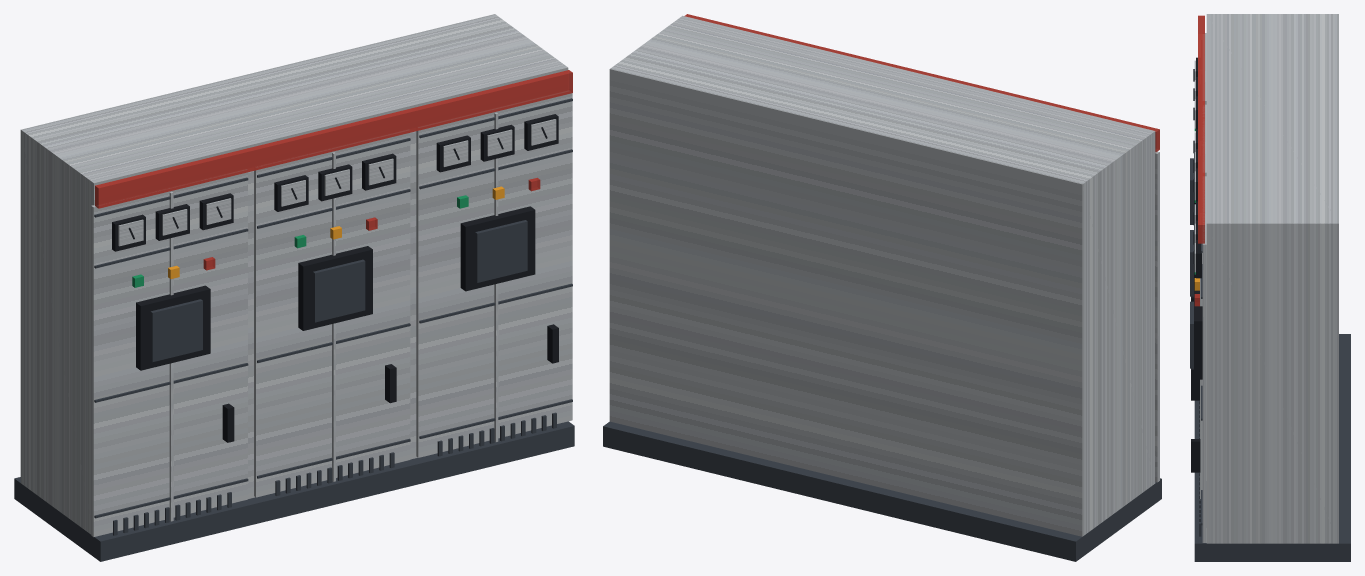
Rendered from electrical-cabinet.glb.
The picture shows the model from 3 angles, left to right: view 1: azimuth 30°, elevation 25°; view 2: azimuth 150°, elevation 25°; view 3: azimuth 270°, elevation 25°; orthographic projection. The views are drawn at different scales.
Visible parts, largest first — view 1: ElectricalCabinet; view 2: ElectricalCabinet; view 3: ElectricalCabinet.
Part boxes in pixels (x1,y1,x2,y2): ElectricalCabinet: (14, 14, 574, 561); ElectricalCabinet: (603, 14, 1161, 561); ElectricalCabinet: (1190, 14, 1350, 561).
Bounding box in the file's own units: 2.95 × 2.2 × 0.9475.
Materials: 6 (1 with a texture image).
